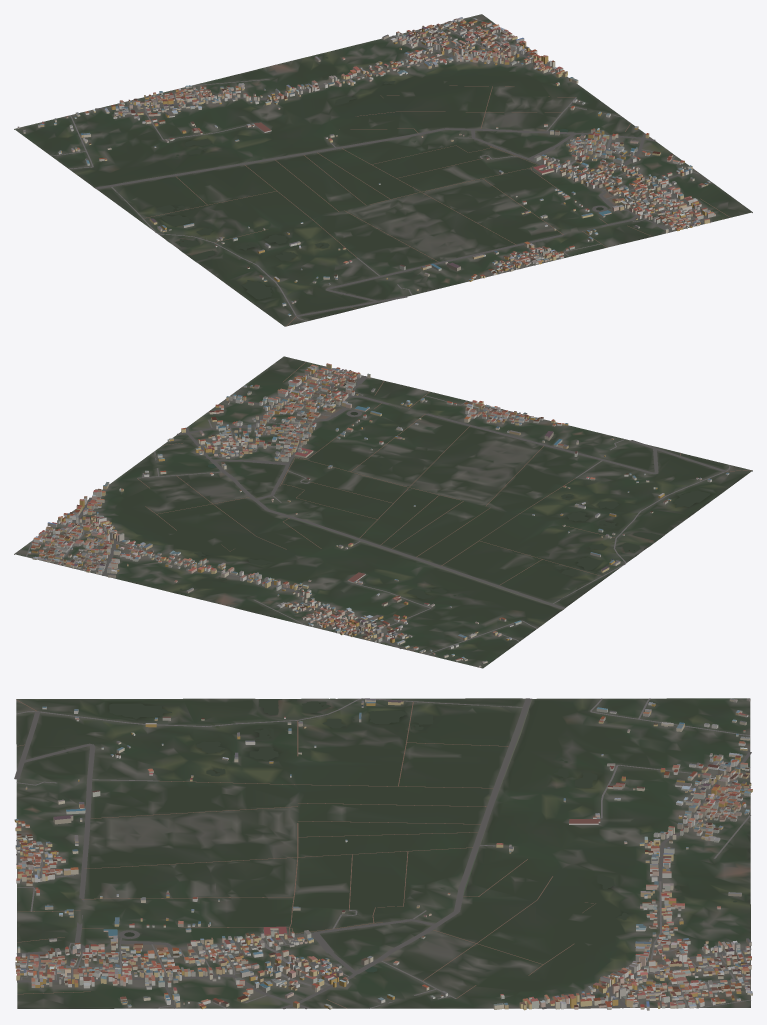
The picture shows the model from 3 angles, top to bottom: view 1: azimuth 30°, elevation 25°; view 2: azimuth 150°, elevation 25°; view 3: azimuth 270°, elevation 25°; orthographic projection. The views are drawn at different scales.
Visible parts, largest first — view 1: ground, buildings, roads, water; view 2: ground, buildings, roads, water; view 3: ground, buildings, roads, water.
Part boxes in pixels (x1=…): ground: x1=14, y1=14, x2=752, y2=326; buildings: x1=17, y1=17, x2=715, y2=316; roads: x1=51, y1=17, x2=730, y2=326; water: x1=95, y1=57, x2=603, y2=299; ground: x1=14, y1=356, x2=752, y2=668; buildings: x1=28, y1=363, x2=729, y2=667; roads: x1=25, y1=361, x2=751, y2=654; water: x1=179, y1=412, x2=710, y2=609; ground: x1=16, y1=698, x2=750, y2=1008; buildings: x1=14, y1=698, x2=752, y2=1010; roads: x1=14, y1=698, x2=751, y2=1009; water: x1=109, y1=698, x2=737, y2=972.
Size of the model in its own units: 1415 by 23.93 by 1412.
